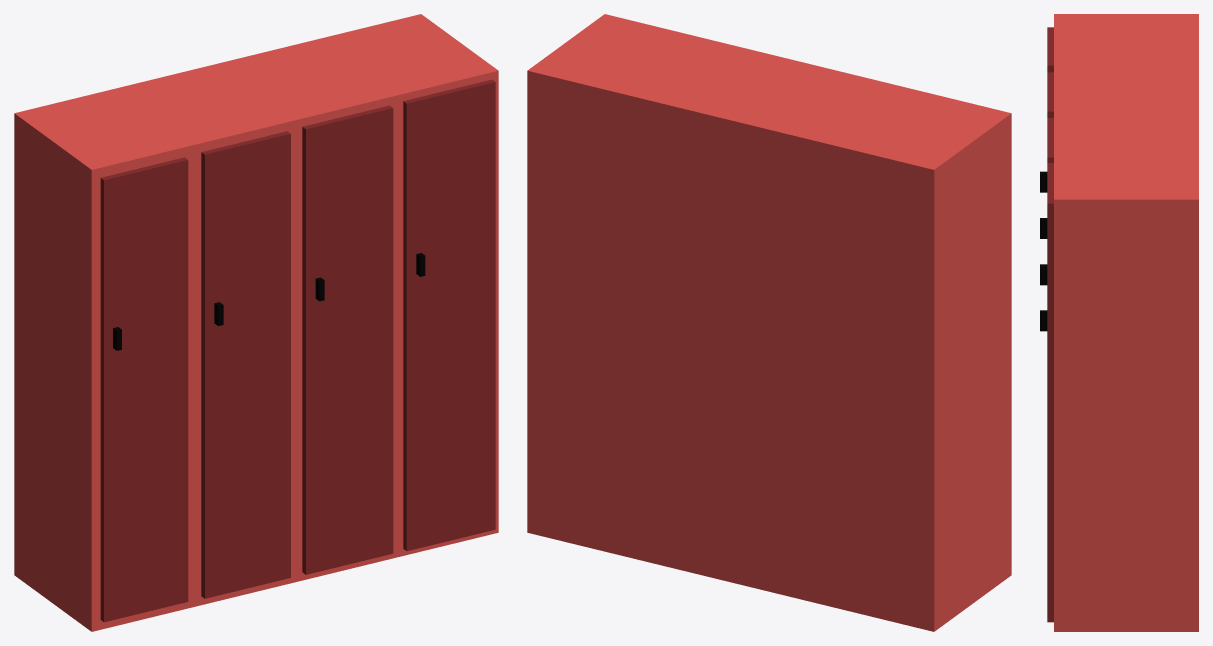
The model's file is RED_Locker.fbx.
3 renders of one model, left to right at view 1: azimuth 30°, elevation 25°; view 2: azimuth 150°, elevation 25°; view 3: azimuth 270°, elevation 25°, orthographic. The views are drawn at different scales.
Visible parts, largest first — view 1: Locker, Knobs; view 2: Locker; view 3: Locker, Knobs.
Part boxes in pixels (x1,y1,x2,y2): Locker: [14, 14, 498, 631]; Knobs: [113, 253, 425, 350]; Locker: [527, 14, 1011, 631]; Locker: [1047, 14, 1198, 631]; Knobs: [1040, 171, 1047, 331].
Size of the model in its own units: 607 by 658 by 219.
